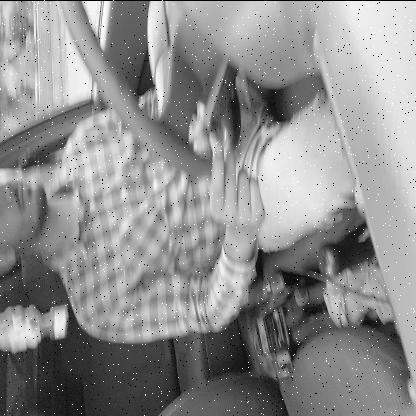no_seatbelt: (0, 103, 163, 290)
